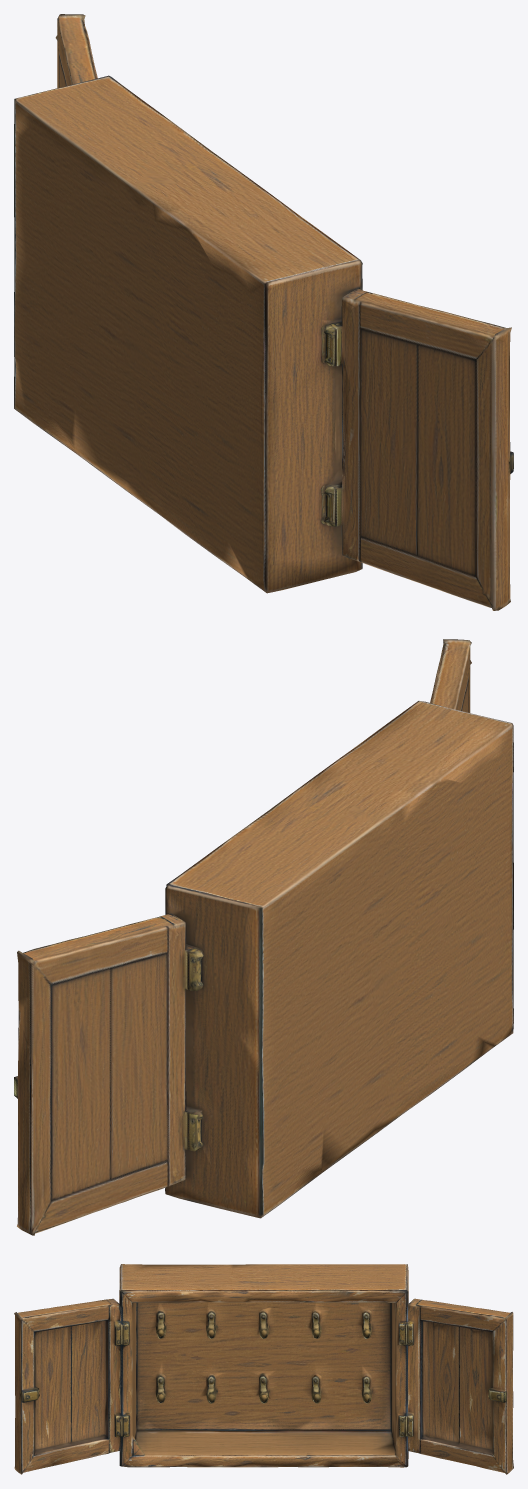
The model's file is OfficeKeyCabinet.fbx.
3 renders of one model, top to bottom at view 1: azimuth 30°, elevation 25°; view 2: azimuth 150°, elevation 25°; view 3: azimuth 270°, elevation 25°, orthographic. The views are drawn at different scales.
Parts seen in each view (by area): view 1: tripo_node_57f6ec62-9870-43af-9e16-129b4b391101; view 2: tripo_node_57f6ec62-9870-43af-9e16-129b4b391101; view 3: tripo_node_57f6ec62-9870-43af-9e16-129b4b391101.
Boxes of the visible parts, bbox=[...] form: tripo_node_57f6ec62-9870-43af-9e16-129b4b391101: bbox=[14, 14, 513, 610]; tripo_node_57f6ec62-9870-43af-9e16-129b4b391101: bbox=[14, 639, 513, 1235]; tripo_node_57f6ec62-9870-43af-9e16-129b4b391101: bbox=[14, 1264, 513, 1474].
Size of the model in its own units: 21.56 by 39.18 by 100.
1 material, 1 textured.
